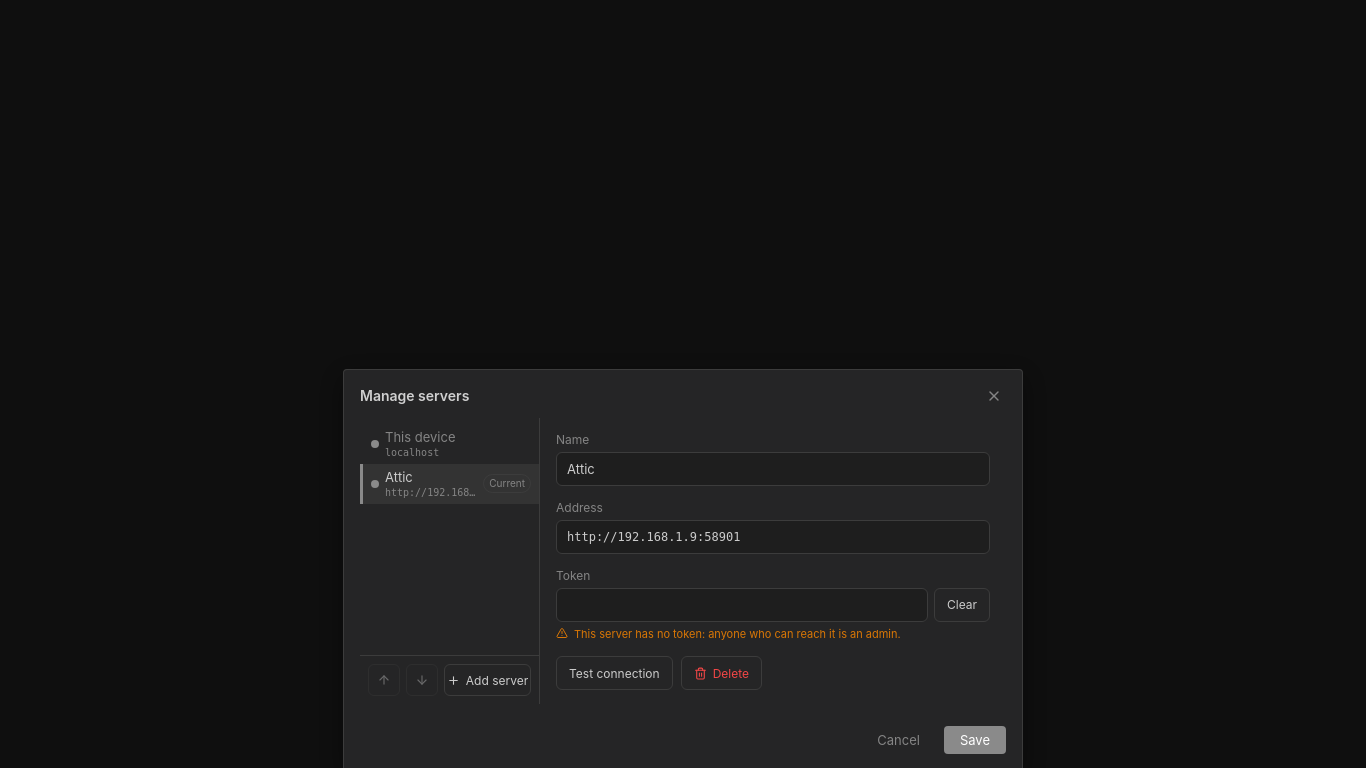
Test: ServerManagerDialog › warns when the server it reached has no token of its own
Click the button with class "srv-mgr-btn--test".
click(614, 673)  # box [556, 656, 673, 690]
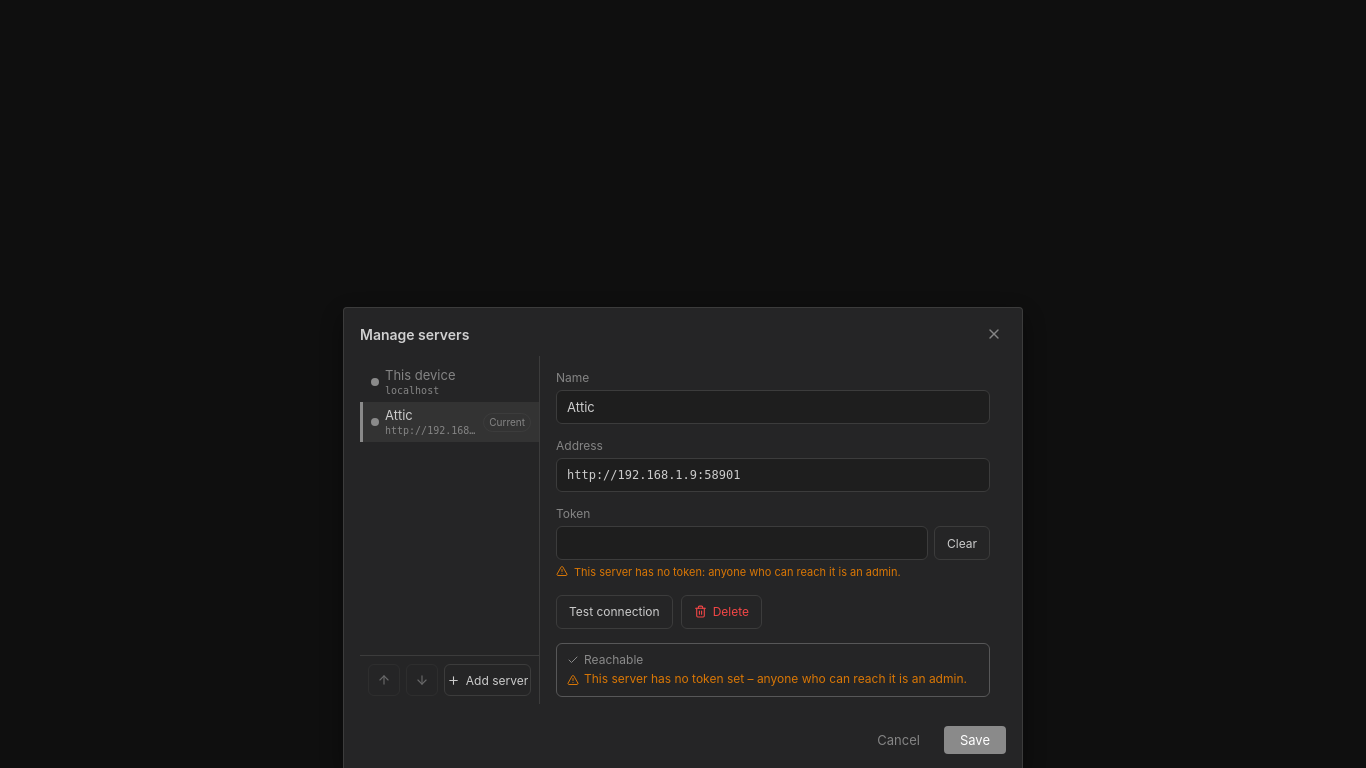
Result: the element with class "warn" shows "no token" at [584, 671, 967, 686]
